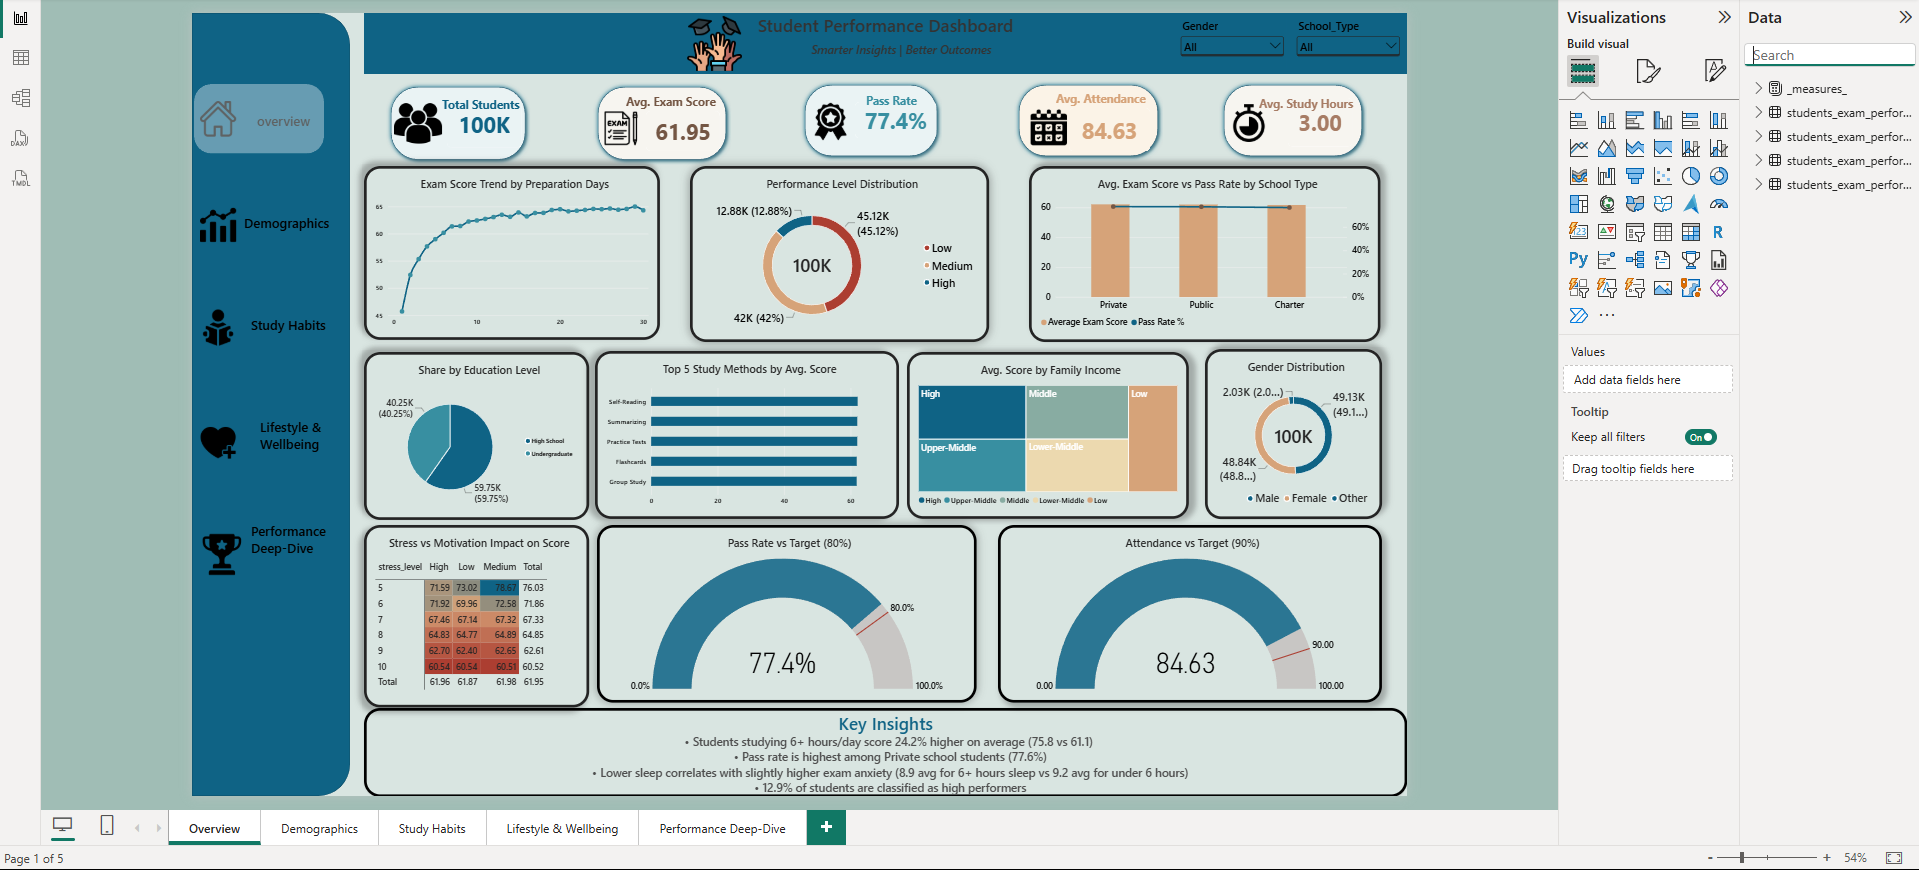

Layout of this report page (visuals, bound fields, positions):
{"tool":"powerbi","page":{"name":"Overview","canvas":[2250,1450],"ordinal":0},"visuals":[{"type":"group","id":"g1","title":"Group 2","box":[0,0,293.1,1450],"z":0,"group":"g2"},{"type":"group","id":"g2","title":"Group 3","box":[0,0,293.1,1450],"z":0},{"type":"shape","box":[0,0,292.5,1450],"z":0,"group":"g1"},{"type":"group","id":"g3","title":"Group 5","box":[318.4,0,1931.6,113.2],"z":0,"group":"g10"},{"type":"image","box":[908.4,3.3,117,105.4],"z":0,"group":"g8"},{"type":"textbox","box":[1068.7,53.1,489.7,60],"z":0,"group":"g3"},{"type":"group","id":"g4","title":"Group 9","box":[1125.7,124.3,262.9,150],"z":0,"group":"g15"},{"type":"shape","box":[1125.7,124.3,262.9,150],"z":0,"group":"g4"},{"type":"shape","box":[1901.4,124.3,273.9,150],"z":0,"group":"g5"},{"type":"group","id":"g5","title":"Group 11","box":[1901.4,124.3,273.9,150],"z":0,"group":"g13"},{"type":"group","id":"g6","title":"Group 10","box":[1523.1,124.6,275.7,150],"z":0,"group":"g12"},{"type":"shape","box":[1523.1,124.6,275.7,150],"z":0,"group":"g6"},{"type":"shape","box":[360,127.1,267.1,152.9],"z":0,"group":"g7"},{"type":"group","id":"g7","title":"Group 7","box":[360,127.1,267.1,152.9],"z":0,"group":"g11"},{"type":"shape","box":[743.1,127.7,255.5,152.9],"z":0,"group":"g14"},{"type":"textbox","box":[120.4,182.2,132,59.5],"z":0,"group":"g9"},{"type":"textbox","box":[318.4,0,1931.6,92.3],"z":1000,"group":"g8"},{"type":"group","id":"g8","title":"Group 4","box":[318.4,0,1931.6,108.8],"z":1000,"group":"g3"},{"type":"slicer","fields":{"Values":["students_exam_performance dim_students.school_type"]},"box":[2040.5,9.8,200.9,92],"z":1000,"group":"g10"},{"type":"shape","box":[3.8,132.1,240.8,128.9],"z":1000},{"type":"textbox","box":[1601.4,145.2,171.7,35],"z":1000,"group":"g12"},{"type":"textbox","box":[1248.6,148.8,120.7,43.5],"z":1000,"group":"g15"},{"type":"group","id":"g9","title":"Group 1","box":[14.5,149.6,262.6,911],"z":1000,"group":"g1"},{"type":"image","box":[14.5,149.6,66.7,92.1],"z":1000,"group":"g9"},{"type":"image","box":[374.3,151.4,89.5,105.2],"z":1000,"group":"g7"},{"type":"textbox","box":[463.1,154.6,147.4,29.3],"z":1000,"group":"g11"},{"type":"textbox","box":[1976.1,154.6,187.1,41.4],"z":1000,"group":"g13"},{"type":"image","box":[1147.1,157.3,68.6,86.5],"z":1000,"group":"g4"},{"type":"image","box":[1920.9,164.2,70.2,77.4],"z":1000,"group":"g5"},{"type":"image","box":[1549.1,171.3,76.9,83.1],"z":1000,"group":"g6"},{"type":"image","box":[763.3,174.6,62.8,78.7],"z":1000,"group":"g14"},{"type":"shape","box":[14.5,725,262.6,122.8],"z":1000,"group":"g2"},{"type":"group","id":"g10","title":"Group 6","box":[318.4,0,1931.6,113.2],"z":2000},{"type":"slicer","fields":{"Values":["students_exam_performance dim_students.gender"]},"box":[1825.1,9.8,200.9,92],"z":2000,"group":"g10"},{"type":"cardVisual","fields":{"Data":["_measures_.Average Study Hours"]},"box":[2029.7,157.5,119.2,90.2],"z":2000,"group":"g5"},{"type":"cardVisual","fields":{"Data":["_measures_.Total Students"]},"box":[473,161.7,138.8,86.9],"z":2000,"group":"g7"},{"type":"cardVisual","fields":{"Data":["_measures_.Pass Rate %"]},"box":[1227.1,165.9,151.4,67.8],"z":2000,"group":"g4"},{"type":"cardVisual","fields":{"Data":["_measures_.Average Attendance %"]},"box":[1624.5,176,150.8,80],"z":2000,"group":"g6"},{"type":"cardVisual","fields":{"Data":["_measures_.Average Exam Score"]},"box":[840.4,180.7,137,74.2],"z":2000,"group":"g14"},{"type":"textbox","box":[95.8,372.1,181.4,57.5],"z":2000,"group":"g9"},{"type":"shape","box":[14.5,523.6,262.6,122.8],"z":2000,"group":"g2"},{"type":"group","id":"g11","title":"Group 12","box":[360,127.1,267.1,152.9],"z":3000},{"type":"textbox","box":[804.5,149.7,184.1,36.3],"z":3000,"group":"g14"},{"type":"shape","box":[4.4,321.8,272.5,137.3],"z":3000,"group":"g2"},{"type":"image","box":[14.5,352.9,66.7,76.7],"z":3000,"group":"g9"},{"type":"group","id":"g12","title":"Group 15","box":[1523.1,124.6,275.7,150],"z":4000},{"type":"image","box":[14.5,523.6,66.7,117],"z":4000,"group":"g9"},{"type":"shape","box":[14.5,937.9,262.6,122.8],"z":4000,"group":"g2"},{"type":"group","id":"g13","title":"Group 16","box":[1901.4,124.3,273.9,150],"z":5000},{"type":"textbox","box":[108.8,560,156.7,44.1],"z":5000,"group":"g9"},{"type":"lineChart","title":"Exam Score Trend by Preparation Days","fields":{"Category":["students_exam_performance fact_exam_performance.exam_preparation_days"],"Y":["_measures_.Average Exam Score"]},"box":[318.5,283.3,548.1,322.2],"z":6000},{"type":"textbox","box":[124.8,749.9,123.3,107.4],"z":6000,"group":"g9"},{"type":"donutChart","title":"Performance Level Distribution","fields":{"Category":["students_exam_performance fact_exam_performance.performance_level"],"Y":["CountNonNull(students_exam_performance fact_exam_performance.student_id)"]},"box":[922.2,283.3,554.1,325.7],"z":7000},{"type":"image","box":[14.5,732.7,66.7,124.7],"z":7000,"group":"g9"},{"type":"lineClusteredColumnComboChart","title":"Avg. Exam Score vs Pass Rate by School Type","fields":{"Category":["students_exam_performance dim_students.school_type"],"Y":["_measures_.Average Exam Score"],"Y2":["_measures_.Pass Rate %"]},"box":[1550,283.3,651.4,325.7],"z":8000},{"type":"textbox","box":[108.8,941.7,156.7,118.9],"z":8000,"group":"g9"},{"type":"pieChart","title":"Share by Education Level","fields":{"Category":["students_exam_performance dim_students.education_level"],"Y":["CountNonNull(students_exam_performance fact_exam_performance.student_id)"]},"box":[318.5,627.7,416.9,310.8],"z":9000},{"type":"image","box":[14.5,941.7,81.3,118.9],"z":9000,"group":"g9"},{"type":"group","id":"g14","title":"Group 8","box":[743.1,127.7,255.5,152.9],"z":10000},{"type":"group","id":"g15","title":"Group 13","box":[1125.7,124.3,262.9,150],"z":11000},{"type":"barChart","title":"Top 5 Study Methods by Avg. Score","fields":{"Category":["students_exam_performance dim_study_habits.study_method"],"Y":["_measures_.Average Exam Score"]},"box":[746.3,625.9,563,311.1],"z":12000},{"type":"treemap","title":"Avg. Score by Family Income","fields":{"Group":["students_exam_performance dim_students.family_income"],"Values":["_measures_.Average Exam Score"]},"box":[1324.1,627.8,522.2,309.3],"z":13000},{"type":"pivotTable","title":"Stress vs Motivation Impact on Score","fields":{"Columns":["students_exam_performance dim_lifestyle.motivation_level"],"Rows":["students_exam_performance dim_lifestyle.stress_level"],"Values":["_measures_.Average Exam Score"]},"box":[318.5,947.7,416.9,338.5],"z":14000},{"type":"gauge","title":"Pass Rate vs Target (80%)","fields":{"Y":["_measures_.Pass Rate %"]},"box":[750.8,947.7,703.1,329.2],"z":15000},{"type":"gauge","title":"Attendance vs Target (90%)","fields":{"Y":["_measures_.Average Attendance %"]},"box":[1492.3,947.7,710.8,329.2],"z":16000},{"type":"textbox","box":[318.5,1286.2,1932.3,164.6],"z":17000},{"type":"donutChart","title":"Gender Distribution","fields":{"Category":["students_exam_performance dim_students.gender"],"Y":["CountNonNull(students_exam_performance fact_exam_performance.student_id)"]},"box":[1875.9,622.2,327.8,314.8],"z":18000}]}

Visuals, with their boxes on the page's 2250x1450 design canvas (x1, y1, x2, y2). These are canvas units, not pixel positions in the 1919x870 screenshot, which may show the page scaled, cropped or inside an application window:
"Group 2" group: rect(0, 0, 293, 1450)
"Group 3" group: rect(0, 0, 293, 1450)
shape: rect(0, 0, 292, 1450)
"Group 5" group: rect(318, 0, 2250, 113)
image: rect(908, 3, 1025, 109)
textbox: rect(1069, 53, 1558, 113)
"Group 9" group: rect(1126, 124, 1389, 274)
shape: rect(1126, 124, 1389, 274)
shape: rect(1901, 124, 2175, 274)
"Group 11" group: rect(1901, 124, 2175, 274)
"Group 10" group: rect(1523, 125, 1799, 275)
shape: rect(1523, 125, 1799, 275)
shape: rect(360, 127, 627, 280)
"Group 7" group: rect(360, 127, 627, 280)
shape: rect(743, 128, 999, 281)
textbox: rect(120, 182, 252, 242)
textbox: rect(318, 0, 2250, 92)
"Group 4" group: rect(318, 0, 2250, 109)
slicer - students_exam_performance dim_students.school_type: rect(2040, 10, 2241, 102)
shape: rect(4, 132, 245, 261)
textbox: rect(1601, 145, 1773, 180)
textbox: rect(1249, 149, 1369, 192)
"Group 1" group: rect(14, 150, 277, 1061)
image: rect(14, 150, 81, 242)
image: rect(374, 151, 464, 257)
textbox: rect(463, 155, 610, 184)
textbox: rect(1976, 155, 2163, 196)
image: rect(1147, 157, 1216, 244)
image: rect(1921, 164, 1991, 242)
image: rect(1549, 171, 1626, 254)
image: rect(763, 175, 826, 253)
shape: rect(14, 725, 277, 848)
"Group 6" group: rect(318, 0, 2250, 113)
slicer - students_exam_performance dim_students.gender: rect(1825, 10, 2026, 102)
cardVisual - _measures_.Average Study Hours: rect(2030, 158, 2149, 248)
cardVisual - _measures_.Total Students: rect(473, 162, 612, 249)
cardVisual - _measures_.Pass Rate %: rect(1227, 166, 1378, 234)
cardVisual - _measures_.Average Attendance %: rect(1624, 176, 1775, 256)
cardVisual - _measures_.Average Exam Score: rect(840, 181, 977, 255)
textbox: rect(96, 372, 277, 430)
shape: rect(14, 524, 277, 646)
"Group 12" group: rect(360, 127, 627, 280)
textbox: rect(804, 150, 989, 186)
shape: rect(4, 322, 277, 459)
image: rect(14, 353, 81, 430)
"Group 15" group: rect(1523, 125, 1799, 275)
image: rect(14, 524, 81, 641)
shape: rect(14, 938, 277, 1061)
"Group 16" group: rect(1901, 124, 2175, 274)
textbox: rect(109, 560, 266, 604)
"Exam Score Trend by Preparation Days" lineChart: rect(318, 283, 867, 606)
textbox: rect(125, 750, 248, 857)
"Performance Level Distribution" donutChart: rect(922, 283, 1476, 609)
image: rect(14, 733, 81, 857)
"Avg. Exam Score vs Pass Rate by School Type" lineClusteredColumnComboChart: rect(1550, 283, 2201, 609)
textbox: rect(109, 942, 266, 1061)
"Share by Education Level" pieChart: rect(318, 628, 735, 938)
image: rect(14, 942, 96, 1061)
"Group 8" group: rect(743, 128, 999, 281)
"Group 13" group: rect(1126, 124, 1389, 274)
"Top 5 Study Methods by Avg. Score" barChart: rect(746, 626, 1309, 937)
"Avg. Score by Family Income" treemap: rect(1324, 628, 1846, 937)
"Stress vs Motivation Impact on Score" pivotTable: rect(318, 948, 735, 1286)
"Pass Rate vs Target (80%)" gauge: rect(751, 948, 1454, 1277)
"Attendance vs Target (90%)" gauge: rect(1492, 948, 2203, 1277)
textbox: rect(318, 1286, 2251, 1451)
"Gender Distribution" donutChart: rect(1876, 622, 2204, 937)
